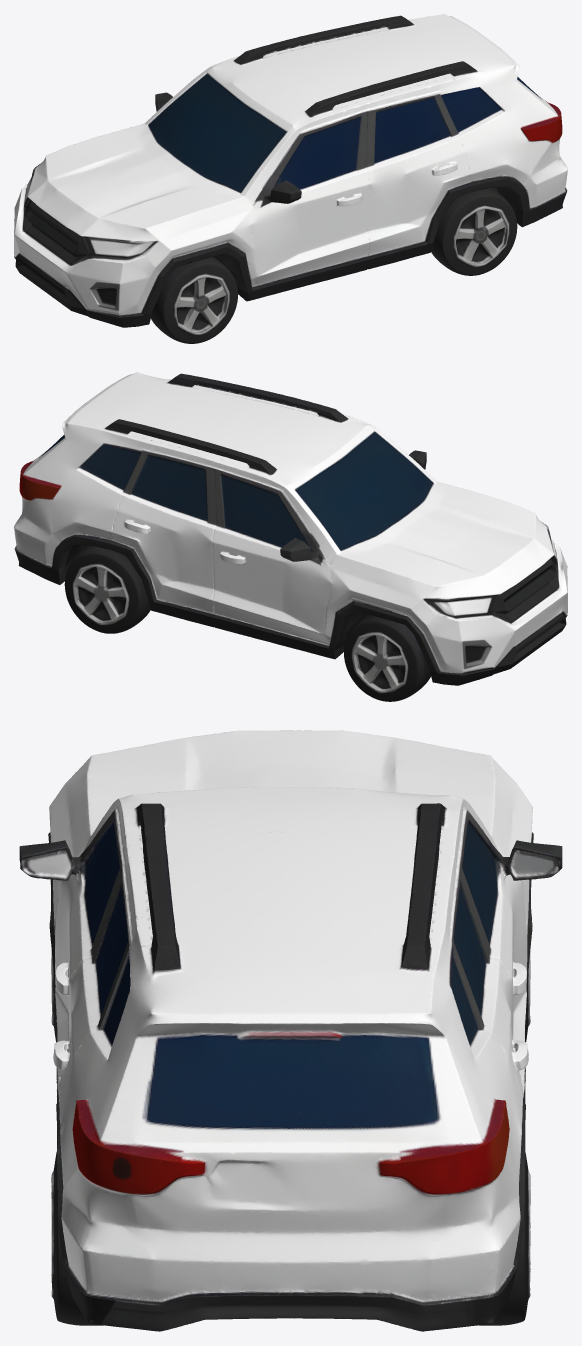
The model's file is SUV.glb.
The picture shows the model from 3 angles, top to bottom: view 1: azimuth 30°, elevation 25°; view 2: azimuth 150°, elevation 25°; view 3: azimuth 270°, elevation 25°; orthographic projection. The views are drawn at different scales.
Size of the model in its own units: 1.9 by 0.7124 by 0.9104.
Materials: 1 (1 with a texture image).
